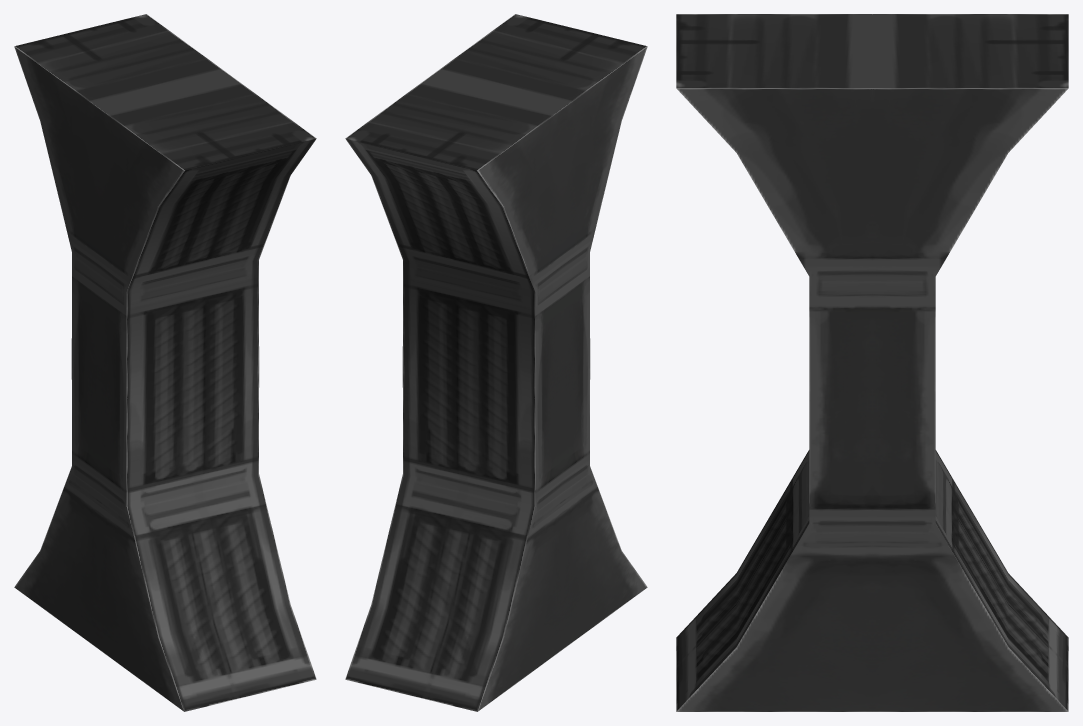
Rendered from pilar door.fbx.
The picture shows the model from 3 angles, left to right: view 1: azimuth 30°, elevation 25°; view 2: azimuth 150°, elevation 25°; view 3: azimuth 270°, elevation 25°; orthographic projection. The views are drawn at different scales.
Visible parts, largest first — view 1: pilar1; view 2: pilar1; view 3: pilar1.
Boxes of the visible parts, left/top/right/bottom form: pilar1: left=14, top=14, right=316, bottom=711; pilar1: left=345, top=14, right=647, bottom=711; pilar1: left=676, top=14, right=1068, bottom=711.
Size of the model in its own units: 0.5 by 1.95 by 1.11.
